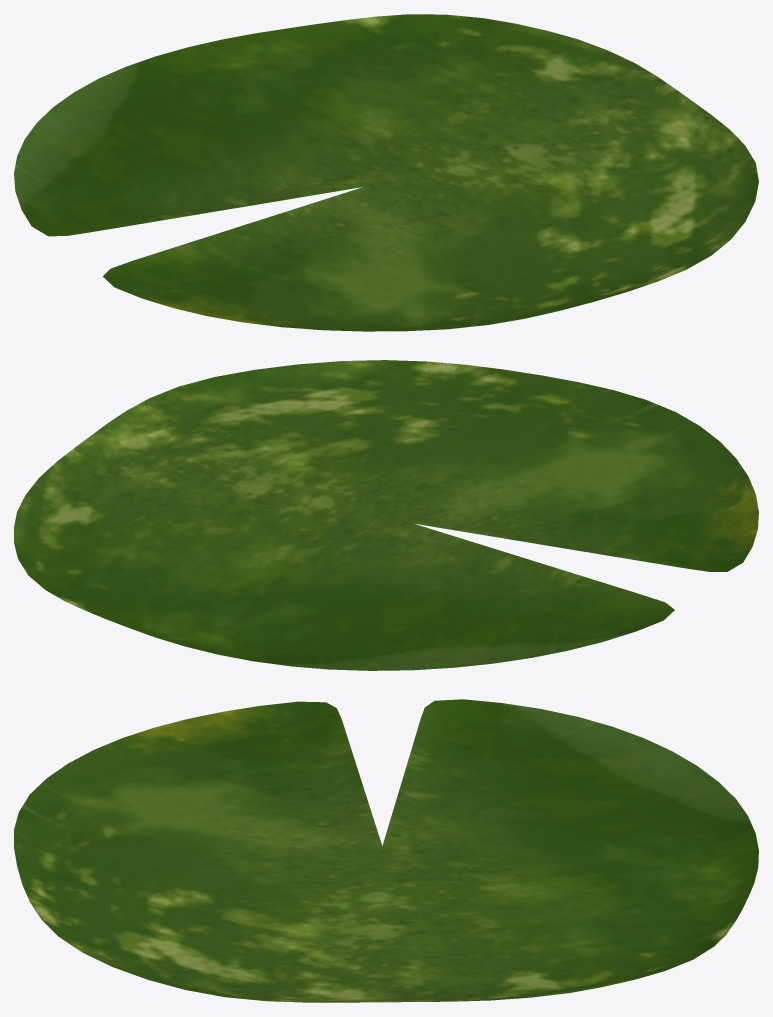
Rendered from cargo_lilypad.glb.
3 views of the same model, one above another, from view 1: azimuth 30°, elevation 25°; view 2: azimuth 150°, elevation 25°; view 3: azimuth 270°, elevation 25° (orthographic). The views are drawn at different scales.
Visible parts, largest first — view 1: KB3D_AOE_PropLillyPad_B_Main; view 2: KB3D_AOE_PropLillyPad_B_Main; view 3: KB3D_AOE_PropLillyPad_B_Main.
Boxes of the visible parts, left/top/right/bottom form: KB3D_AOE_PropLillyPad_B_Main: left=14, top=14, right=758, bottom=331; KB3D_AOE_PropLillyPad_B_Main: left=14, top=360, right=758, bottom=670; KB3D_AOE_PropLillyPad_B_Main: left=14, top=699, right=758, bottom=1002.
Bounding box in the file's own units: 0.3359 × 0.0068 × 0.3446.
1 material, 1 textured.
